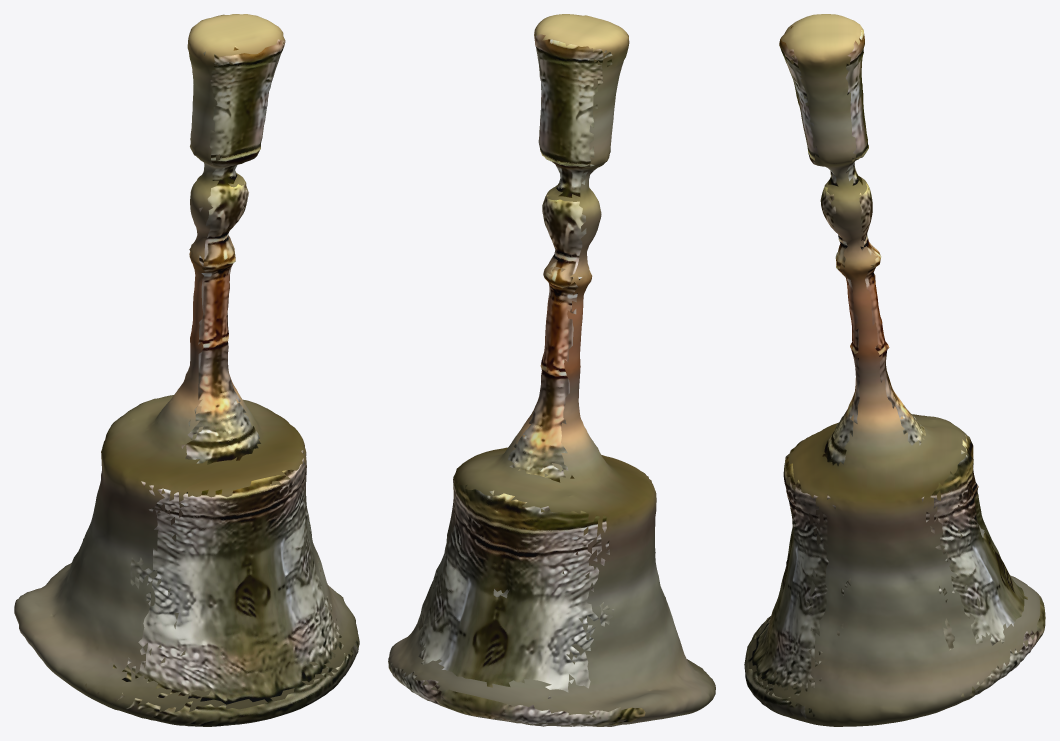
The model's file is kfl-2310.glb.
The picture shows the model from 3 angles, left to right: view 1: azimuth 30°, elevation 25°; view 2: azimuth 150°, elevation 25°; view 3: azimuth 270°, elevation 25°; orthographic projection.
Visible parts, largest first — view 1: kfl-2310; view 2: kfl-2310; view 3: kfl-2310.
Part boxes in pixels (box(x1,y1,x2,y2)): kfl-2310: box(14, 14, 359, 726); kfl-2310: box(388, 14, 715, 726); kfl-2310: box(744, 14, 1045, 726).
Bounding box in the file's own units: 0.4633 × 0.9991 × 0.4152.
4 materials, 4 textured.
